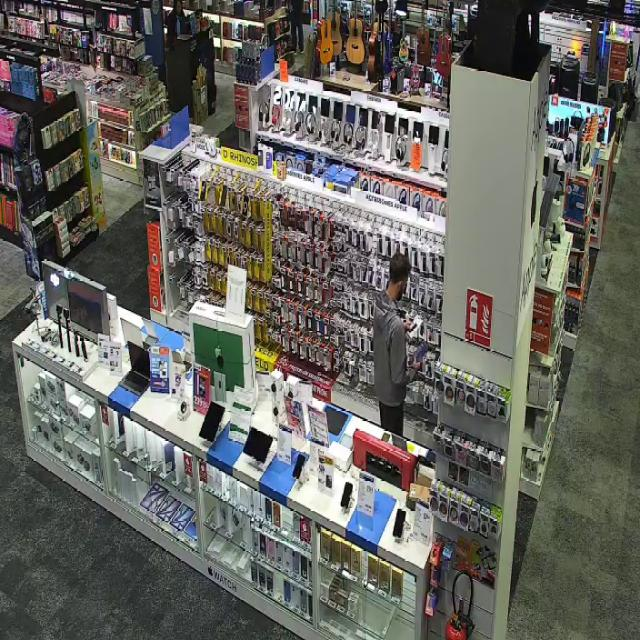article: (409, 343, 427, 365), (407, 316, 423, 337)
hands: (403, 320, 413, 332), (411, 361, 421, 371)
person: (373, 253, 419, 435), (167, 0, 190, 47)
